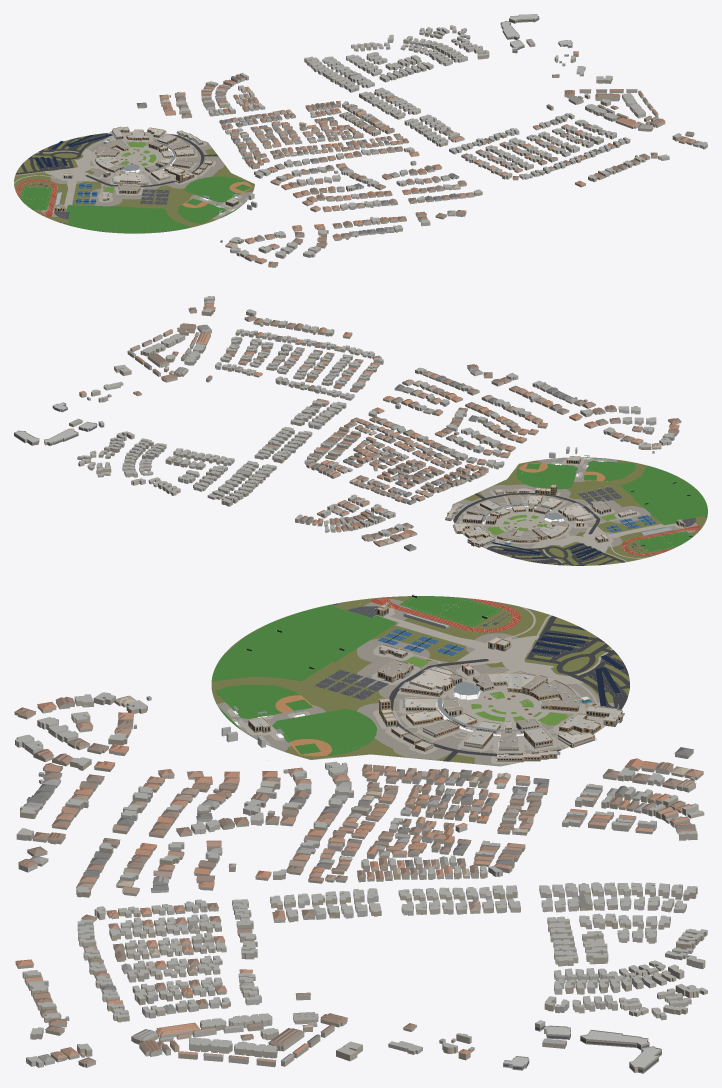
Rendered from buildings_r4_c4.glb.
3 views of the same model, one above another, from view 1: azimuth 30°, elevation 25°; view 2: azimuth 150°, elevation 25°; view 3: azimuth 270°, elevation 25° (orthographic). The views are drawn at different scales.
Visible parts, largest first — view 1: buildings_r4_c4, hero_del_norte_hs_0, hero_del_norte_hs_3, hero_del_norte_hs_1, hero_del_norte_hs_4, hero_del_norte_hs_2; view 2: buildings_r4_c4, hero_del_norte_hs_0, hero_del_norte_hs_3, hero_del_norte_hs_1, hero_del_norte_hs_4, hero_del_norte_hs_2; view 3: buildings_r4_c4, hero_del_norte_hs_0, hero_del_norte_hs_3, hero_del_norte_hs_1, hero_del_norte_hs_4, hero_del_norte_hs_2.
Part boxes in pixels (<box>): buildings_r4_c4: <box>136,14,707,267</box>; hero_del_norte_hs_0: <box>14,133,254,233</box>; hero_del_norte_hs_3: <box>33,126,239,227</box>; hero_del_norte_hs_1: <box>14,131,248,215</box>; hero_del_norte_hs_4: <box>34,130,238,210</box>; hero_del_norte_hs_2: <box>42,127,237,211</box>; buildings_r4_c4: <box>14,296,681,551</box>; hero_del_norte_hs_0: <box>452,457,707,565</box>; hero_del_norte_hs_3: <box>445,456,692,547</box>; hero_del_norte_hs_1: <box>452,457,688,565</box>; hero_del_norte_hs_4: <box>448,459,683,560</box>; hero_del_norte_hs_2: <box>445,455,684,561</box>; buildings_r4_c4: <box>14,692,707,1073</box>; hero_del_norte_hs_0: <box>211,596,629,766</box>; hero_del_norte_hs_3: <box>233,594,624,762</box>; hero_del_norte_hs_1: <box>227,606,620,764</box>; hero_del_norte_hs_4: <box>248,605,624,760</box>; hero_del_norte_hs_2: <box>233,609,624,757</box>.
Bounding box in the file's own units: 1340 × 37.03 × 811.
